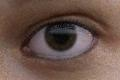eye: (45, 23, 76, 50)
